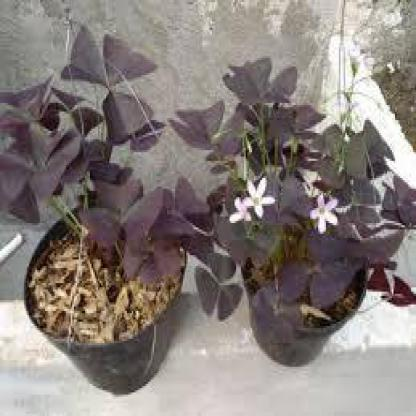Kupu-Kupu: (12, 68, 75, 203), (224, 55, 308, 149), (91, 190, 176, 282), (73, 40, 160, 108)
